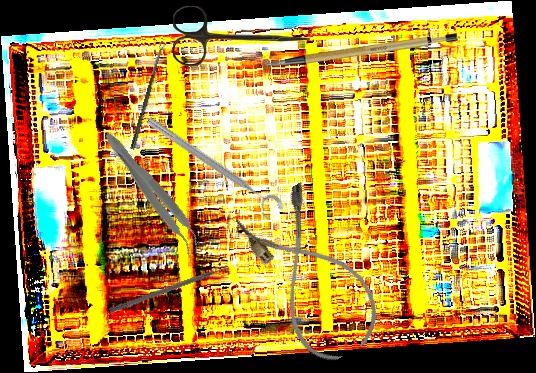Cannula: (231, 179, 393, 371)
Fixation Ring: (138, 113, 287, 224)
Iris Scissors: (173, 6, 310, 66)
Pusher: (108, 262, 237, 315)
Scalpel Handle: (263, 31, 458, 67)
Surgical Spoon: (130, 40, 166, 151)
Tissue Forceps: (95, 128, 209, 259)
